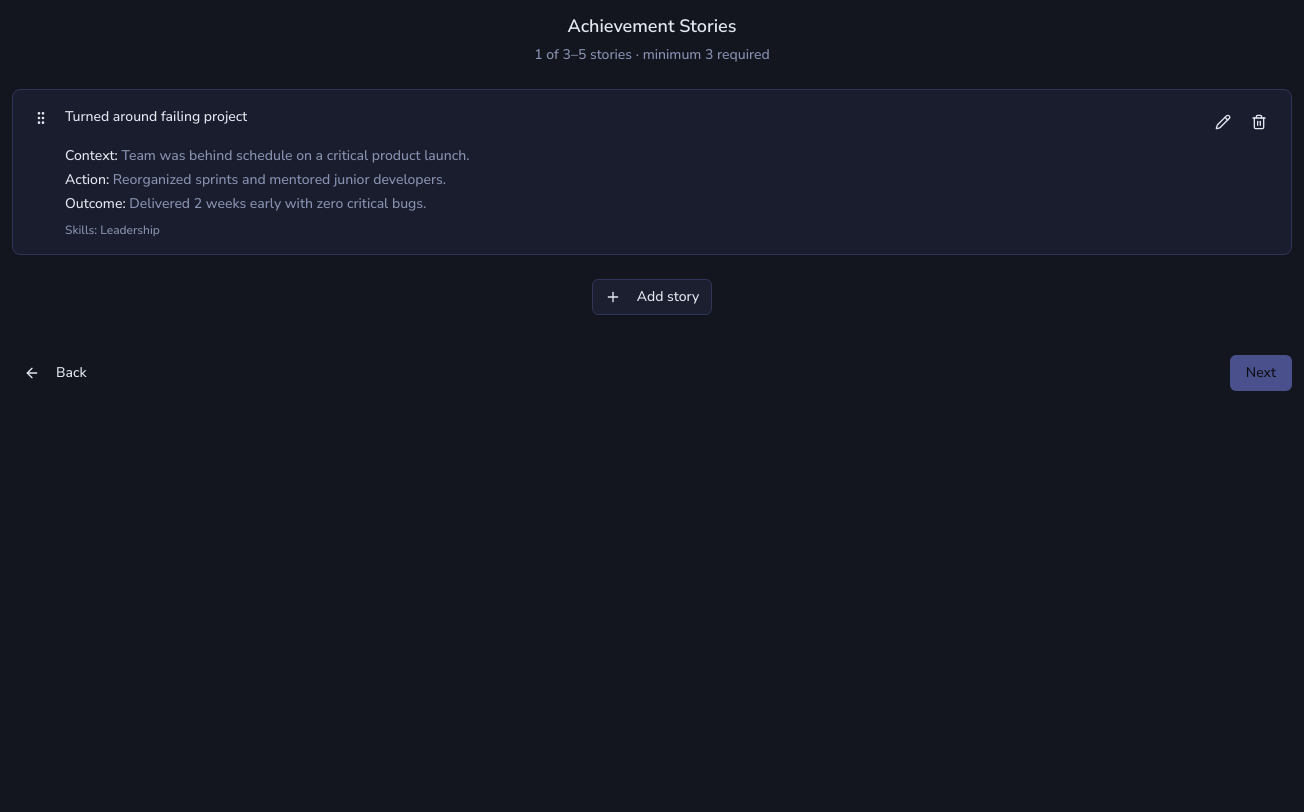
Test: StoryStep › Edit flow › submitting edit updates via API
The image size is (1304, 812).
Step 1. Click the button named "Edit Turned around failing project" → [1223, 122], box [1207,106,1239,138]
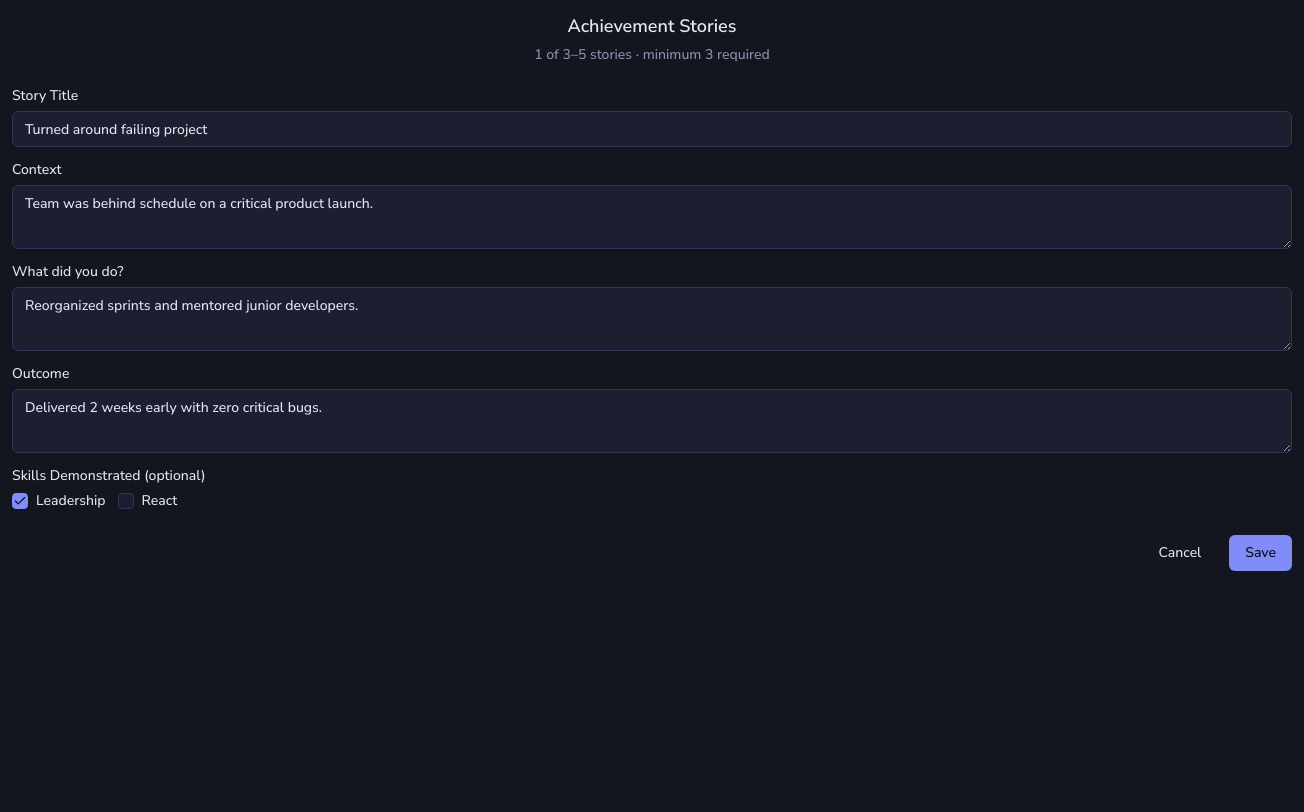
Step 2. Replace the text in the field labelled "Story Title" with "Updated Title" → [652, 129], box [12,111,1292,147]
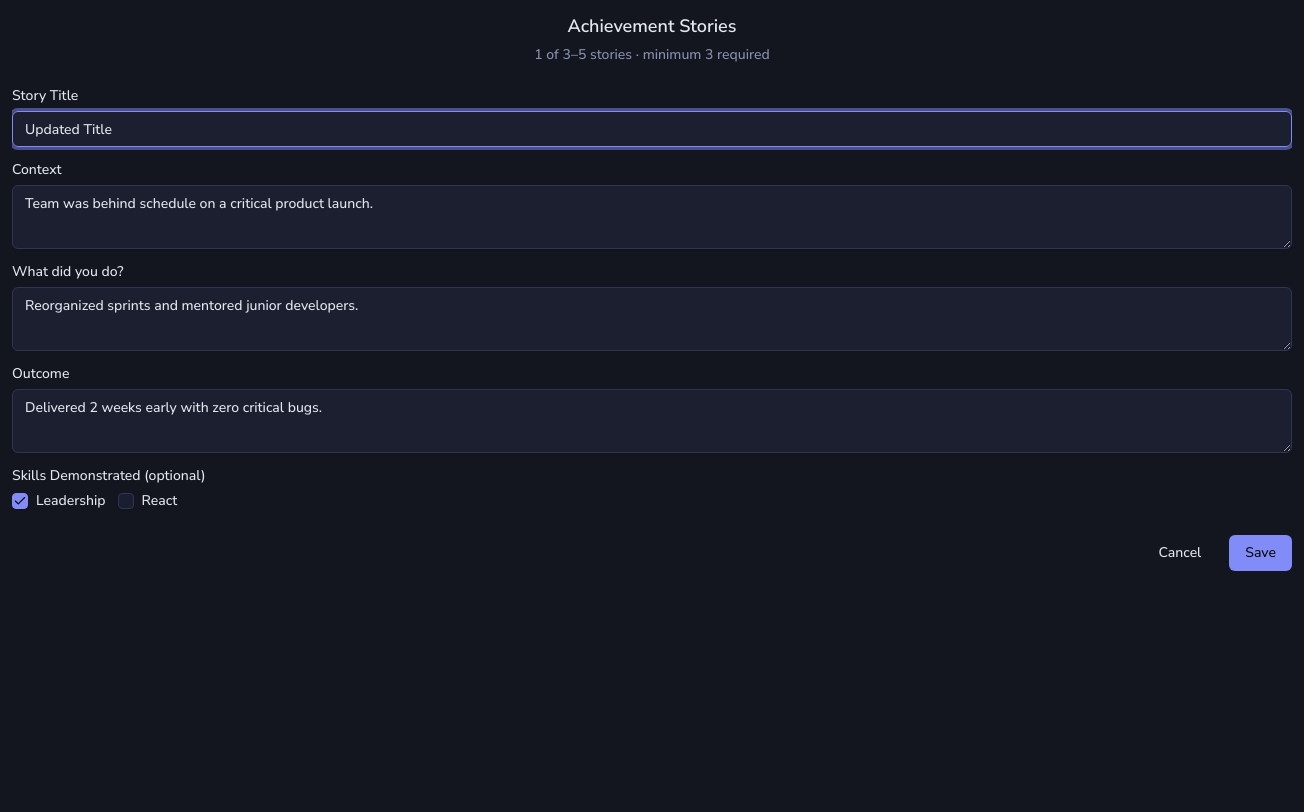
Step 3. Click the button "Save" → [1261, 553], box [1229,535,1292,571]
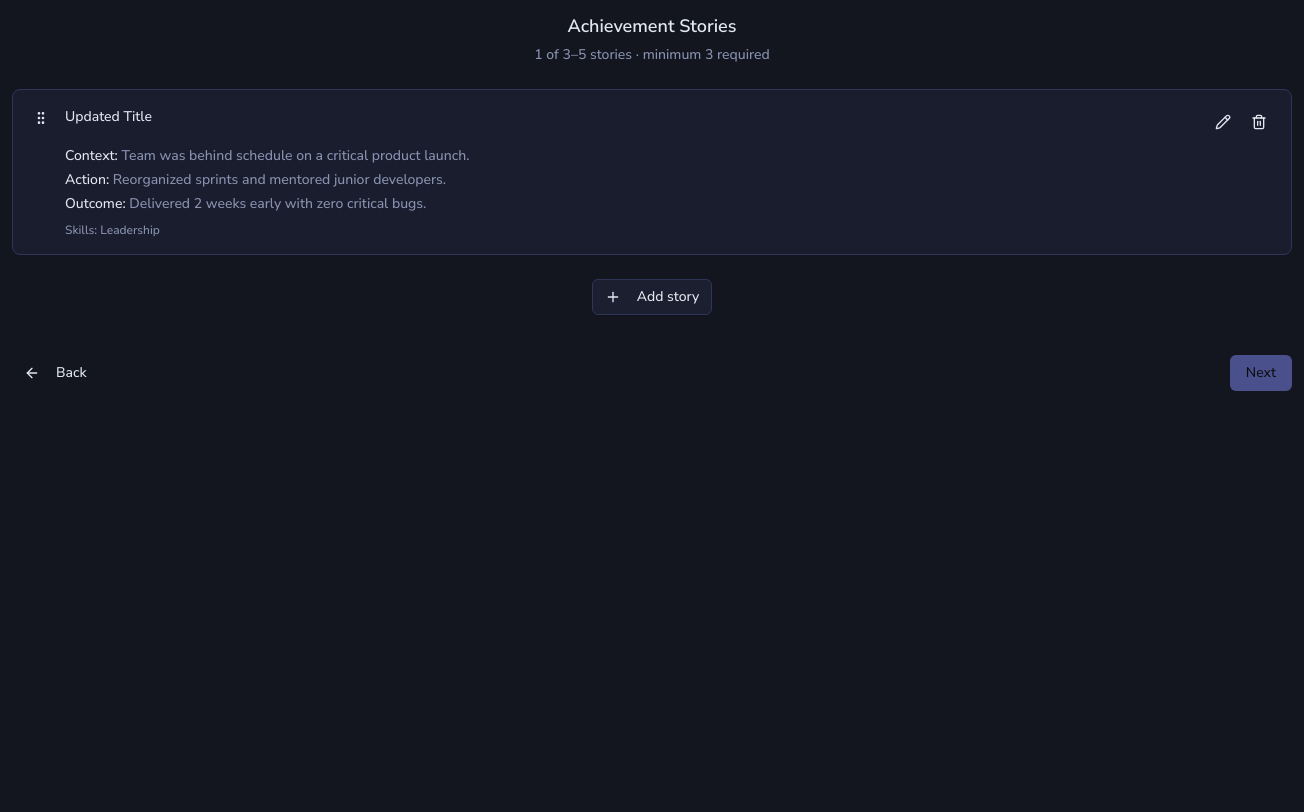
expect the heading "Updated Title" is shown: met, box [65,106,152,127]
